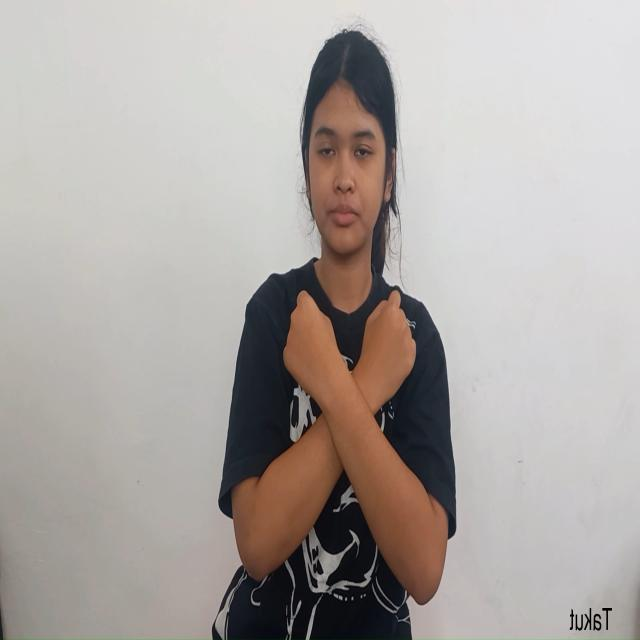Takut -BISINDO-: (266, 277, 422, 538)
